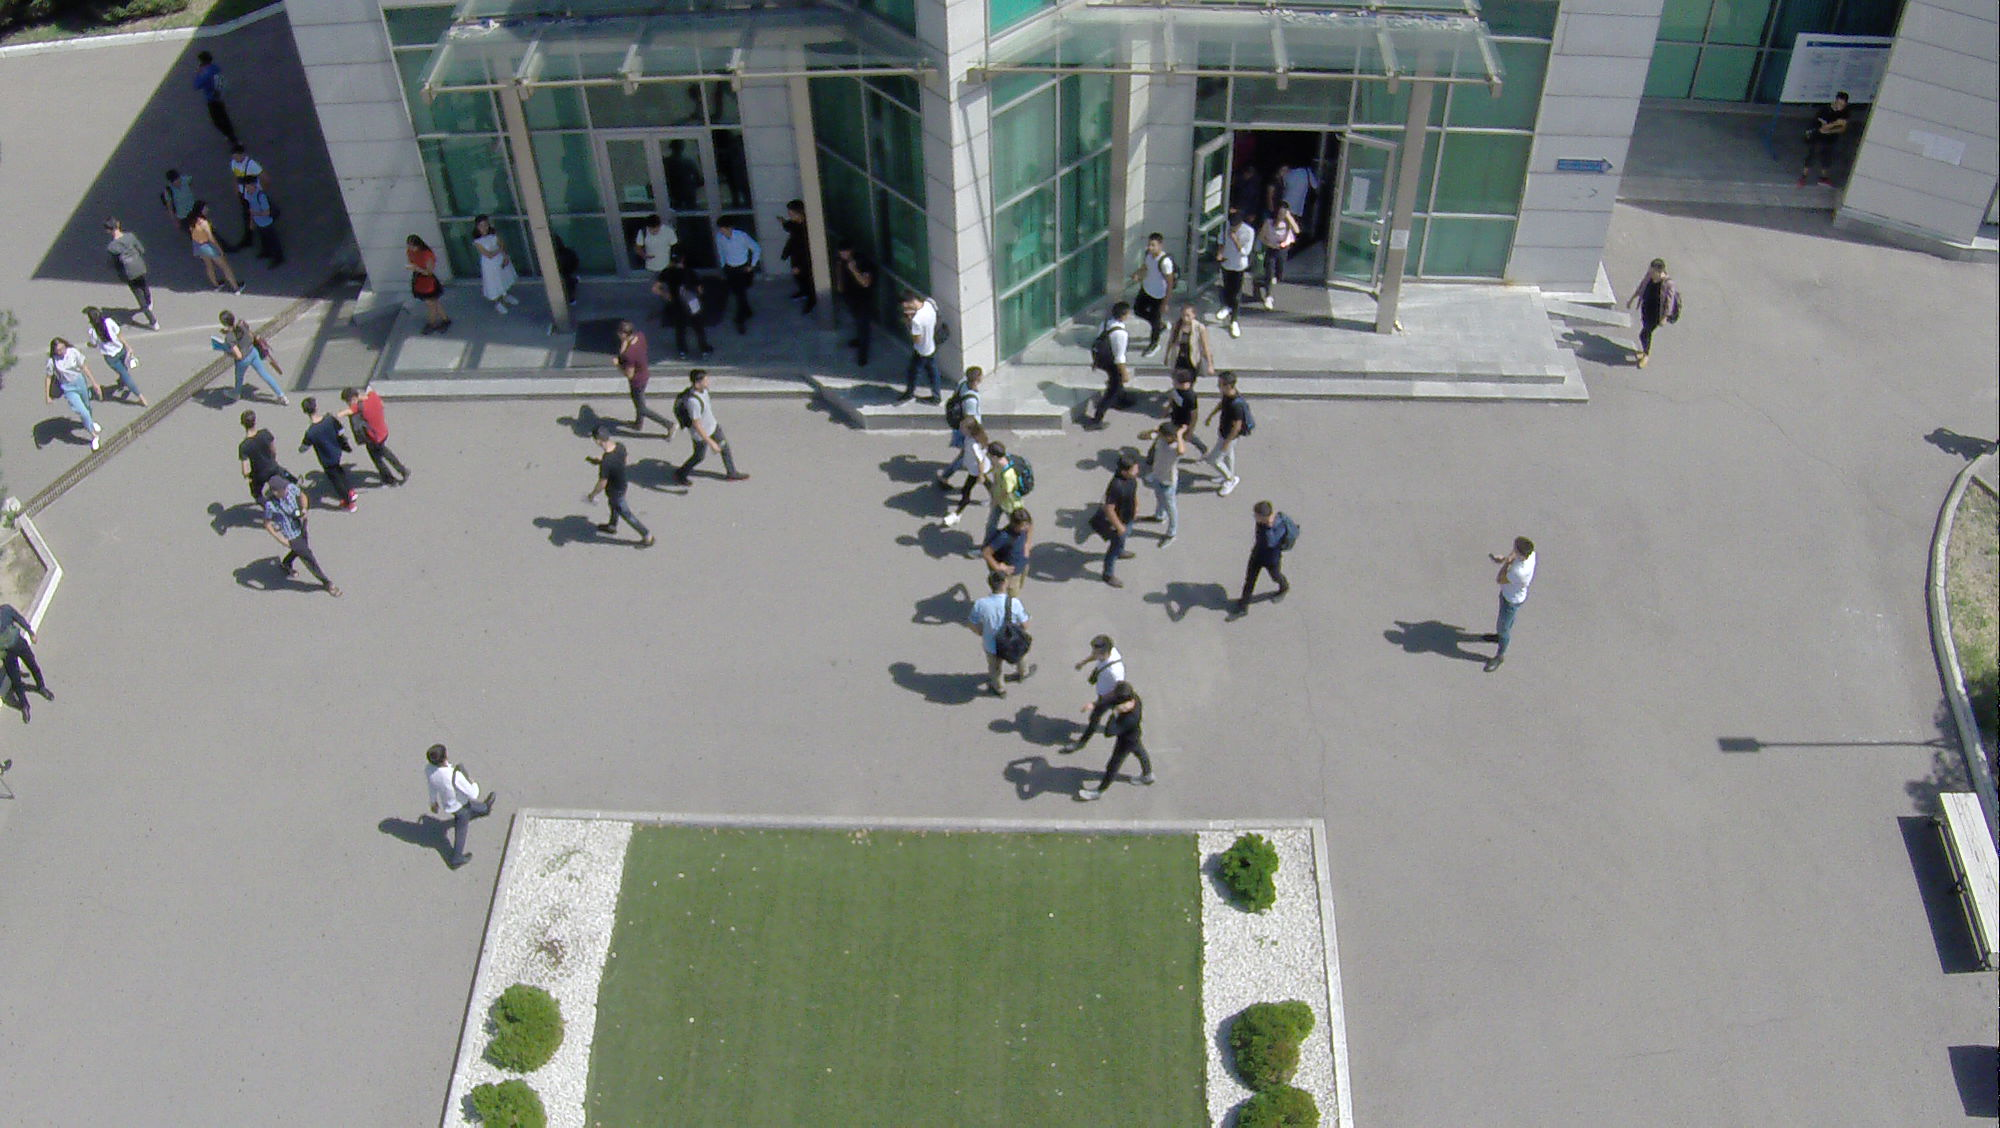person: (413, 739, 499, 877), (1467, 531, 1543, 683), (579, 419, 659, 560), (260, 476, 342, 603), (1223, 495, 1300, 623), (673, 368, 747, 496), (1077, 679, 1151, 807), (40, 333, 108, 464), (1087, 454, 1144, 604), (611, 319, 681, 442), (205, 306, 292, 403), (1062, 631, 1127, 753), (344, 380, 409, 492), (80, 297, 147, 405), (296, 393, 352, 522), (973, 566, 1031, 689), (1624, 256, 1682, 376), (105, 215, 160, 339), (1087, 296, 1137, 430), (1, 599, 52, 732), (945, 413, 997, 541), (658, 248, 716, 364), (397, 231, 458, 339), (470, 212, 528, 320), (1206, 367, 1250, 506), (1140, 419, 1188, 544), (714, 219, 762, 337), (900, 289, 942, 414), (774, 198, 818, 315), (1137, 231, 1176, 360), (189, 201, 240, 297), (839, 240, 874, 370), (989, 506, 1040, 588), (1217, 212, 1249, 340), (1812, 95, 1851, 193), (228, 406, 279, 482), (1264, 206, 1301, 307), (244, 176, 283, 269), (989, 447, 1036, 516), (627, 209, 675, 271), (1161, 369, 1203, 435), (945, 369, 987, 423), (164, 168, 195, 223)
